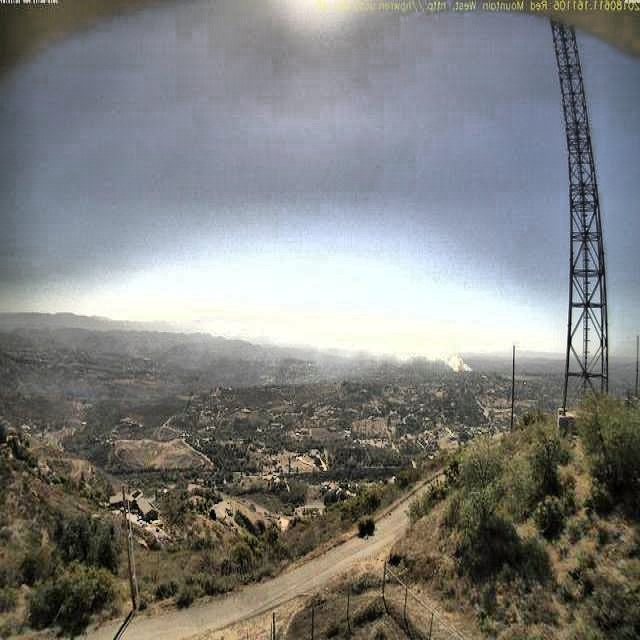smoke: (297, 312, 475, 375)
